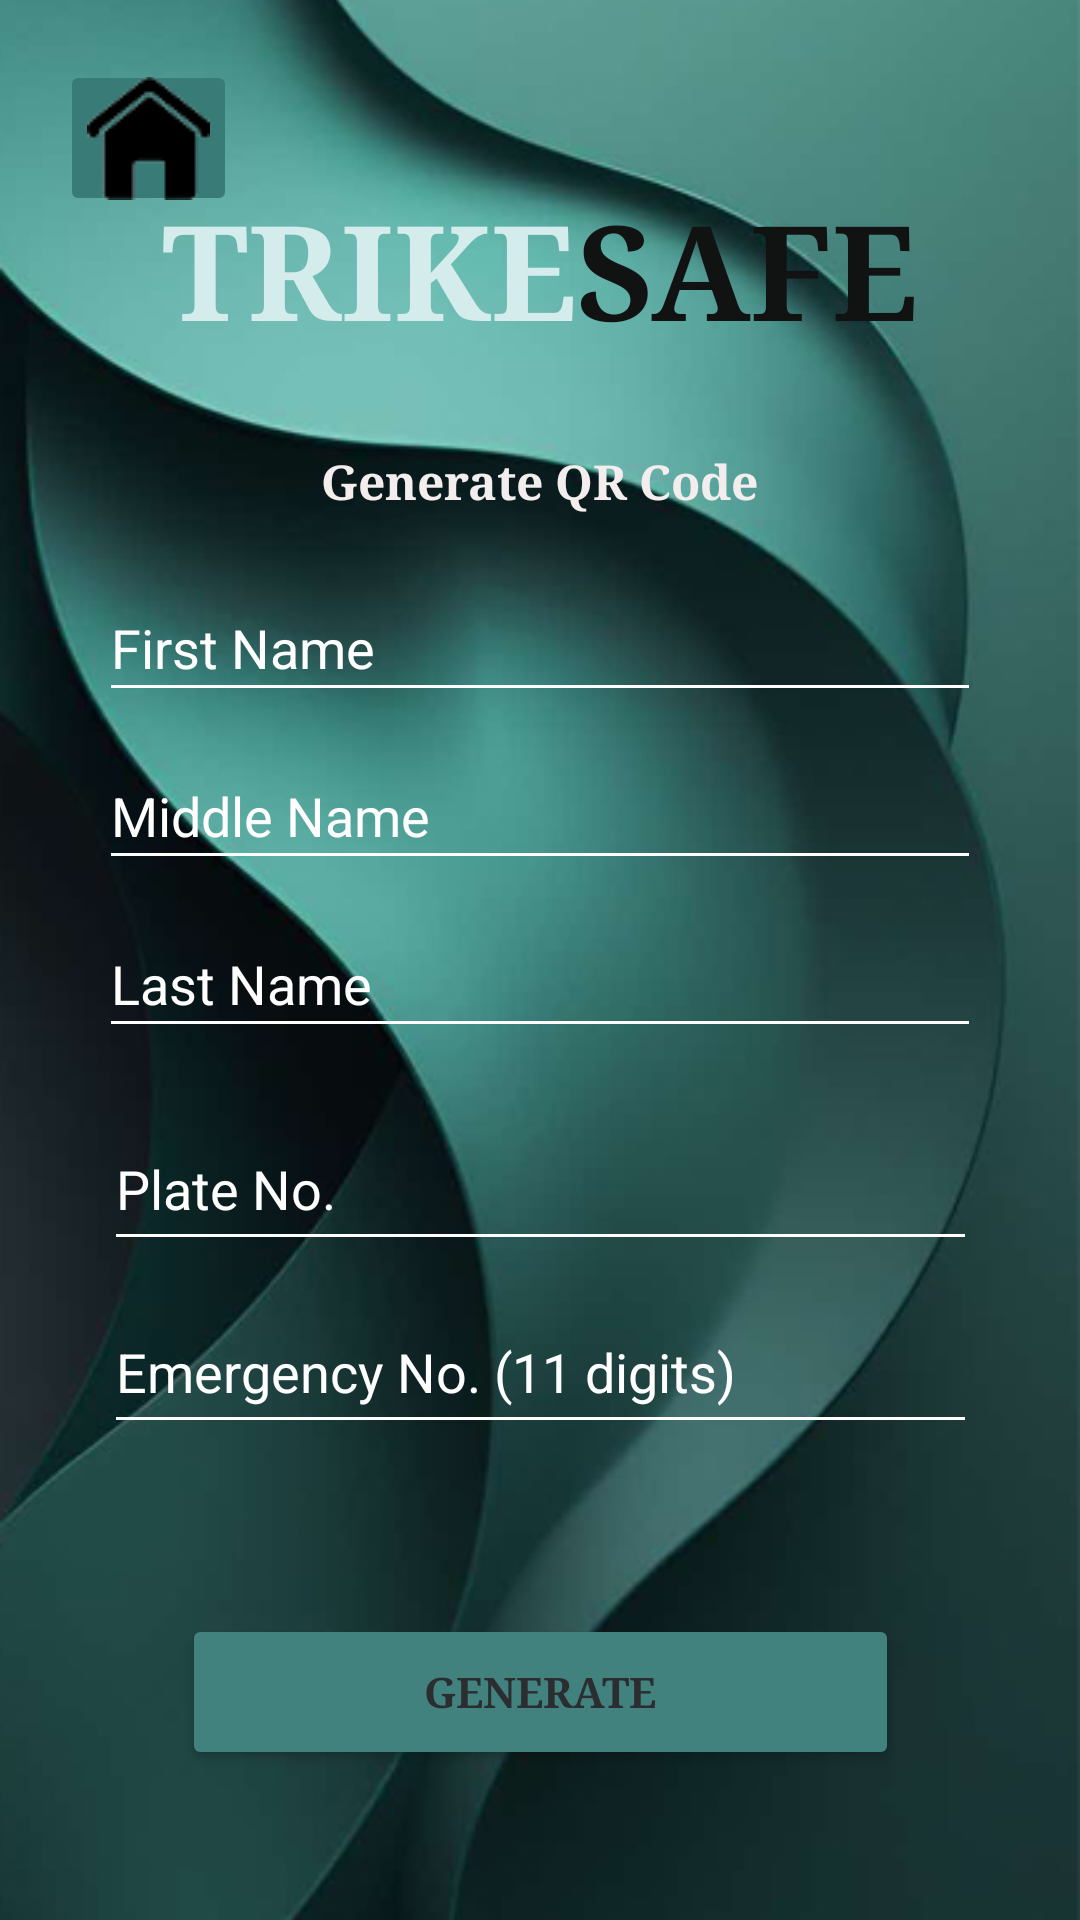

Where to tap for icons on this 1080 x 1920 app screen, as [x,y]:
home: [154,146]
